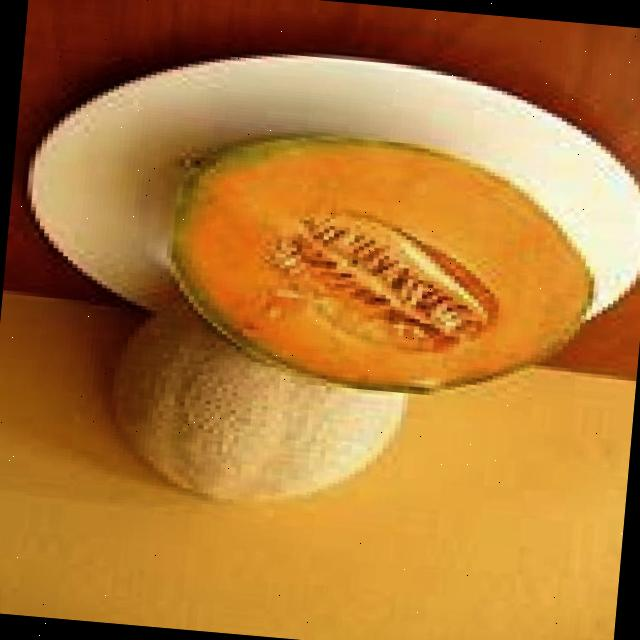Hami Melon: (165, 122, 601, 410), (102, 284, 416, 510)
